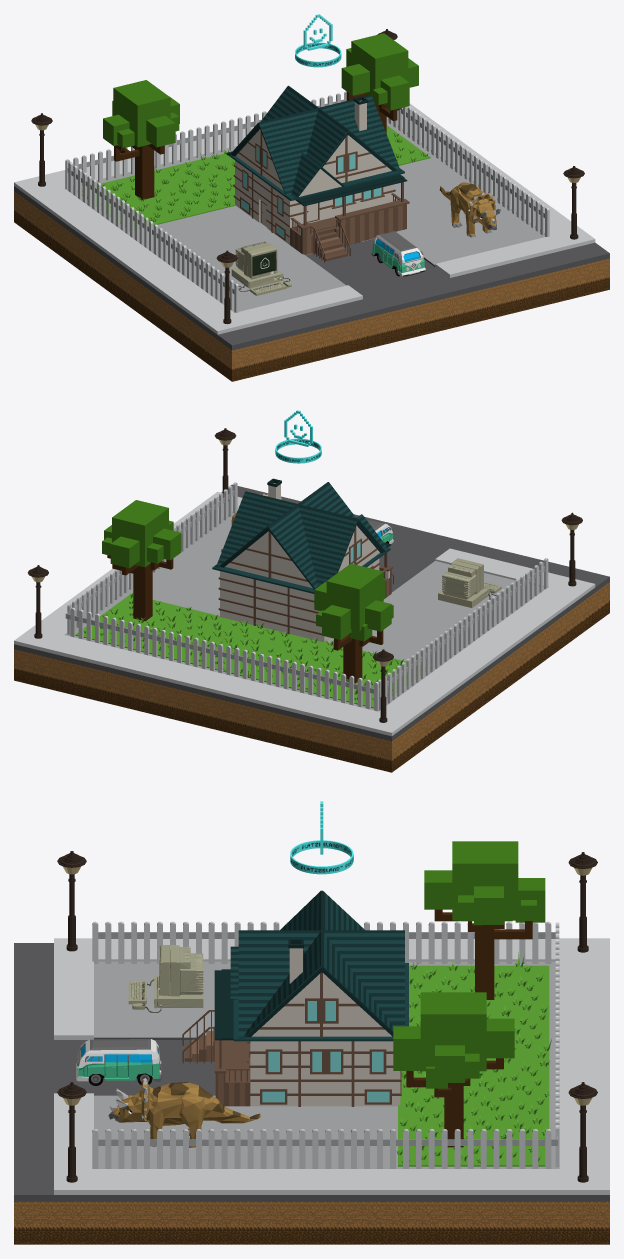
3 views of the same model, one above another, from view 1: azimuth 30°, elevation 25°; view 2: azimuth 150°, elevation 25°; view 3: azimuth 270°, elevation 25° (orthographic). The views are drawn at different scales.
Parts seen in each view (by area): view 1: Cube.004, Cube.793, OBJRANDOM_RETRO_PC, ANIMAL_Triceratops, VEHICLES_VAN, TYPE_PREMIUM; view 2: Cube.004, Cube.793, OBJRANDOM_RETRO_PC, TYPE_PREMIUM; view 3: Cube.004, Cube.793, ANIMAL_Triceratops, VEHICLES_VAN, OBJRANDOM_RETRO_PC, TYPE_PREMIUM.
Part boxes in pixels (x1,y1,x2,y2): Cube.004: [14, 29, 609, 381]; Cube.793: [226, 85, 409, 262]; OBJRANDOM_RETRO_PC: [231, 241, 291, 295]; ANIMAL_Triceratops: [439, 182, 500, 237]; VEHICLES_VAN: [371, 231, 425, 276]; TYPE_PREMIUM: [295, 14, 341, 67]; Cube.004: [14, 428, 609, 772]; Cube.793: [212, 478, 394, 642]; OBJRANDOM_RETRO_PC: [438, 558, 501, 607]; TYPE_PREMIUM: [275, 410, 321, 463]; Cube.004: [14, 841, 609, 1244]; Cube.793: [182, 890, 408, 1106]; ANIMAL_Triceratops: [108, 1078, 260, 1147]; VEHICLES_VAN: [76, 1039, 161, 1085]; OBJRANDOM_RETRO_PC: [128, 945, 203, 1012]; TYPE_PREMIUM: [290, 801, 353, 874].
Bounding box in the file's own units: 4000 × 2466 × 4000.
Materials: 35 (5 with a texture image).
